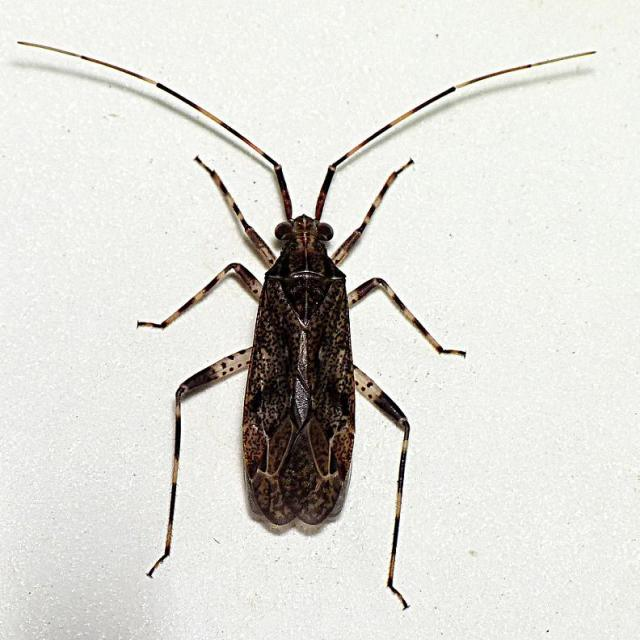Miridae-Adult-: (8, 24, 616, 605)
